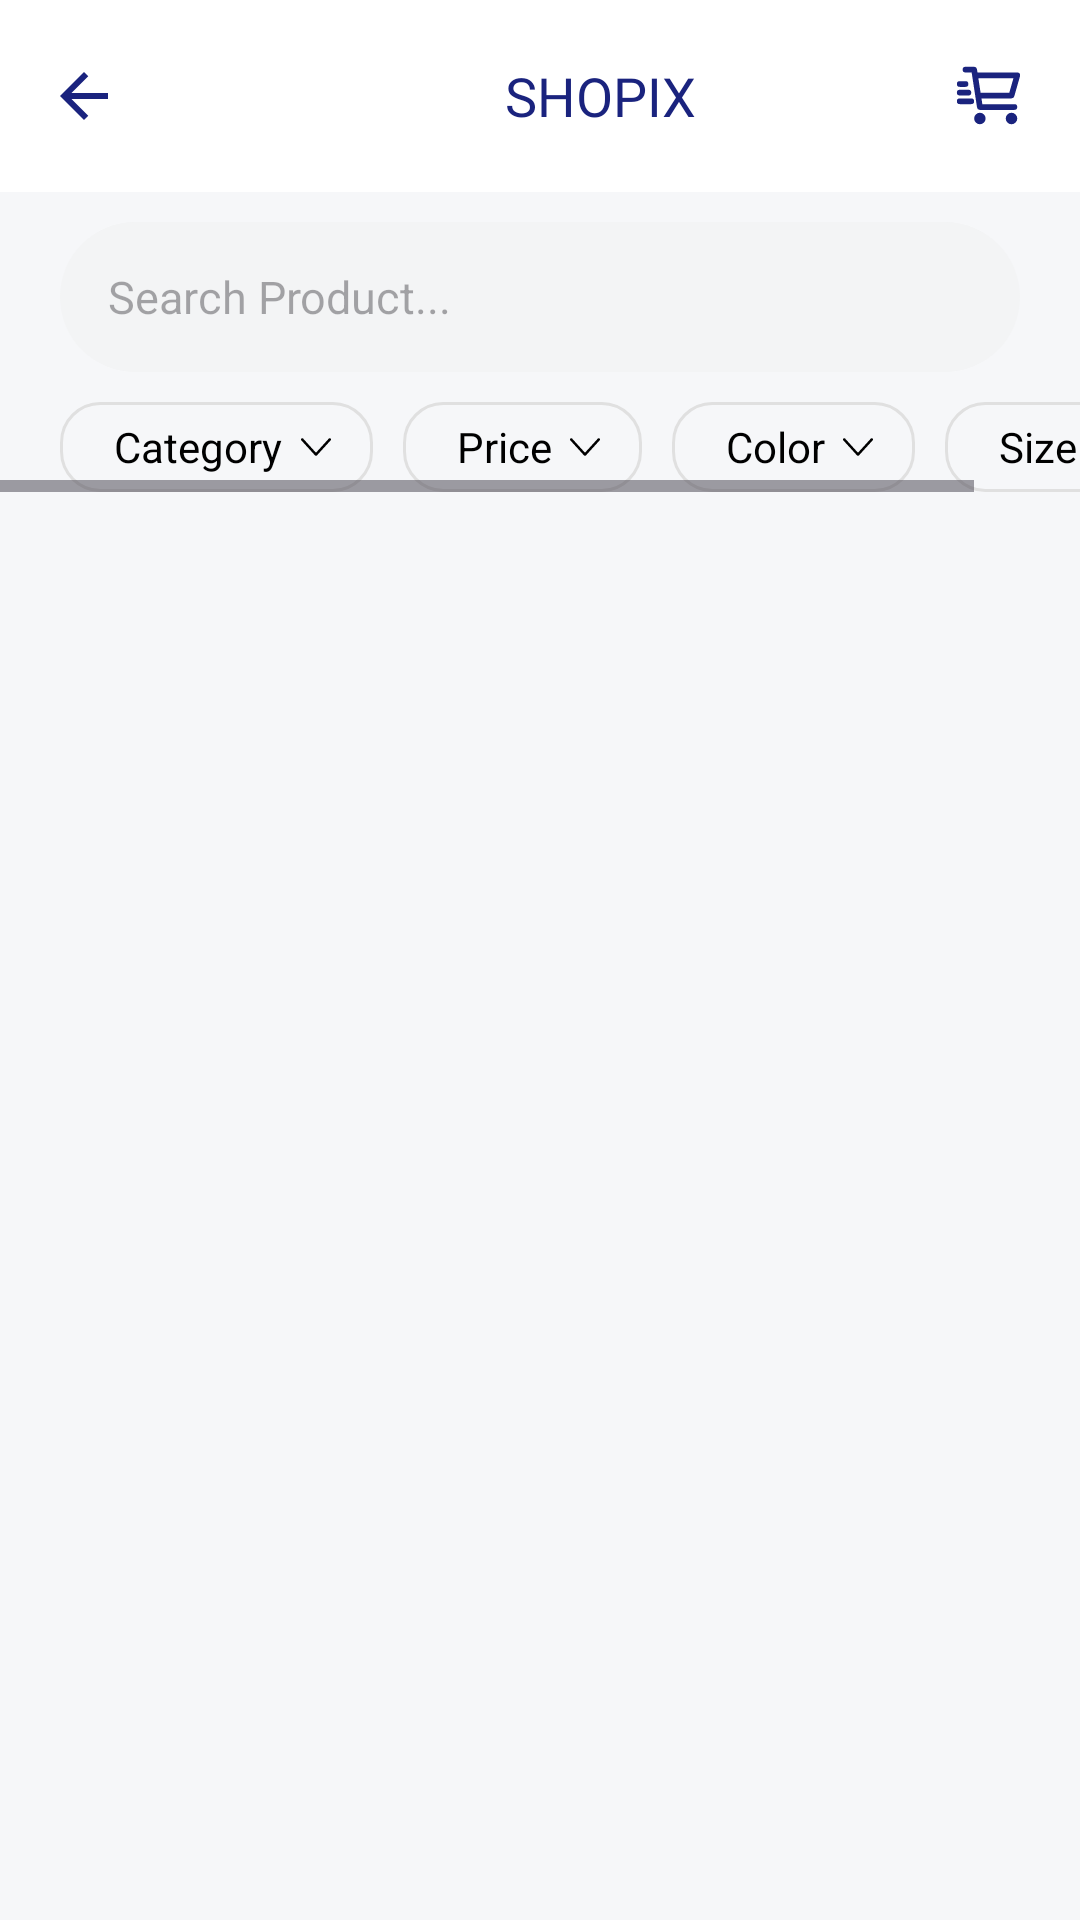

Screen size 1080*1920. Icon name, then its box in pixels as BBox(x1, y1, x2, y2):
arrow back: BBox(60, 72, 108, 120)
cart shopping: BBox(957, 66, 1020, 125)
chevron down: BBox(301, 438, 331, 456), BBox(570, 438, 600, 456), BBox(843, 438, 873, 456)
